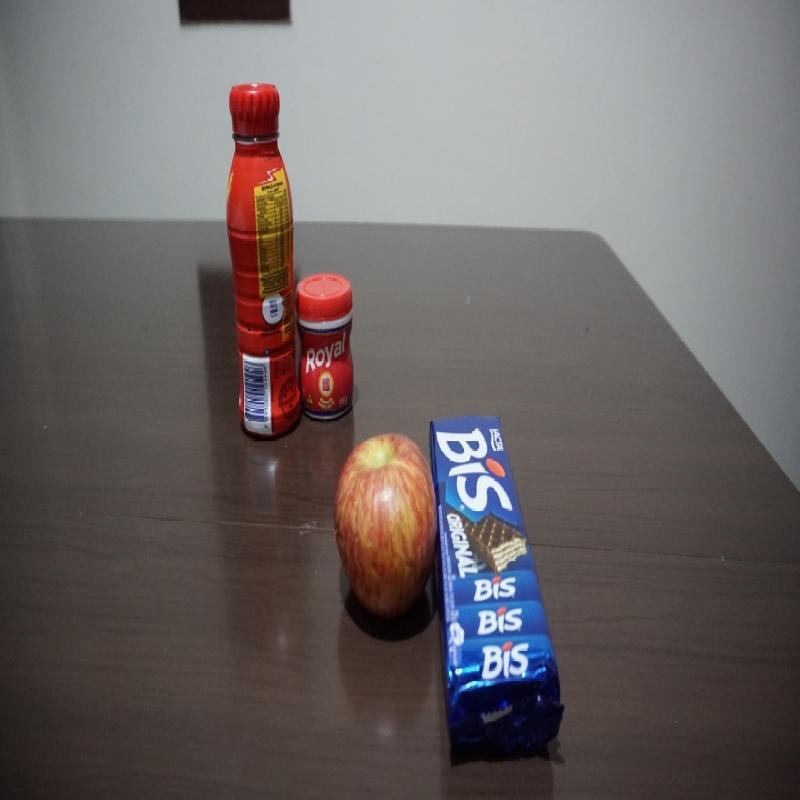Apple: (333, 431, 436, 616)
Chocolate Milk: (228, 79, 298, 434)
Yeast: (301, 268, 356, 422)
